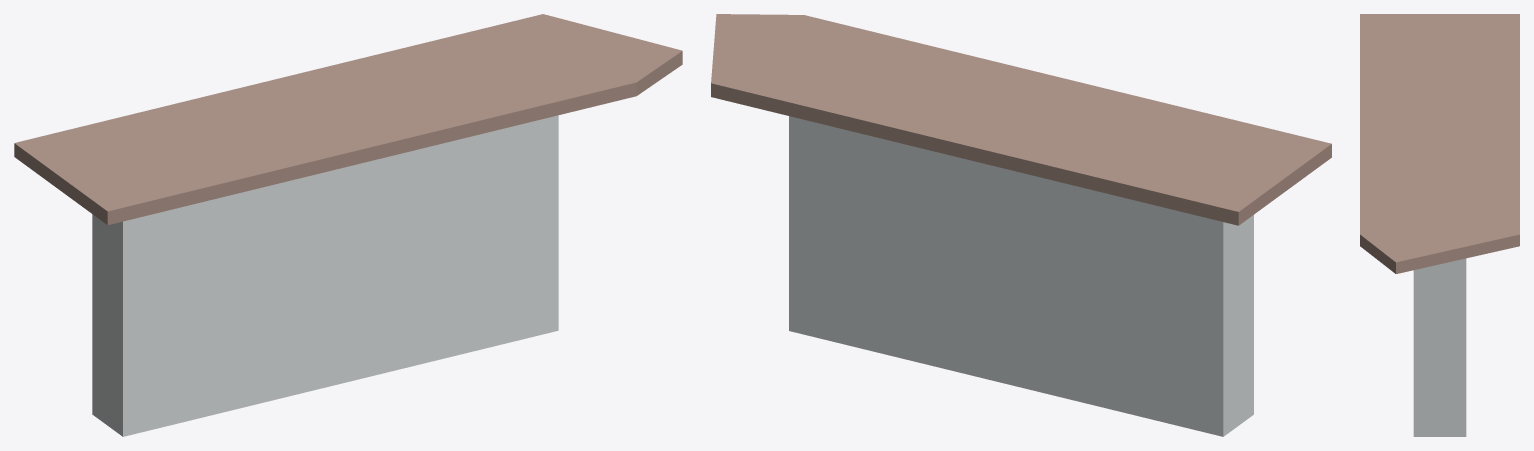
Rendered from table-angle-r.glb.
The picture shows the model from 3 angles, left to right: view 1: azimuth 30°, elevation 25°; view 2: azimuth 150°, elevation 25°; view 3: azimuth 270°, elevation 25°; orthographic projection. The views are drawn at different scales.
Parts seen in each view (by area): view 1: group383138261, group497994667; view 2: group383138261, group497994667; view 3: group497994667, group383138261.
Part boxes in pixels (x1,y1,x2,y2): group383138261: (92, 115, 558, 436); group497994667: (14, 14, 682, 225); group383138261: (789, 116, 1253, 436); group497994667: (711, 14, 1331, 225); group497994667: (1360, 14, 1519, 273); group383138261: (1413, 258, 1466, 436).
Size of the model in its own units: 2.26 by 0.94 by 0.613.
